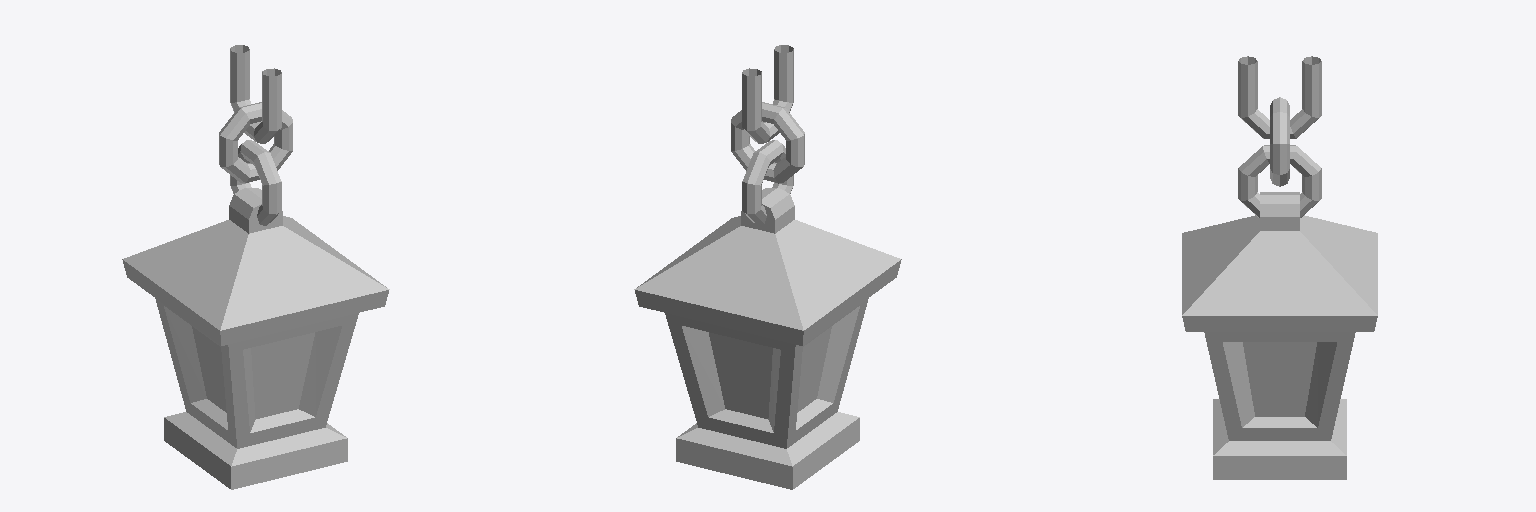
Rendered from lantern_hanging.obj.
3 views of the same model, side by side, from view 1: azimuth 30°, elevation 25°; view 2: azimuth 150°, elevation 25°; view 3: azimuth 270°, elevation 25° (orthographic).
Parts seen in each view (by area): view 1: lantern_hanging_Cube.637; view 2: lantern_hanging_Cube.637; view 3: lantern_hanging_Cube.637.
Boxes of the visible parts, box(x1,y1,x2,y2) form: lantern_hanging_Cube.637: box(122, 45, 389, 489); lantern_hanging_Cube.637: box(634, 45, 901, 489); lantern_hanging_Cube.637: box(1182, 56, 1377, 479).
Size of the model in its own units: 0.64 by 1.41 by 0.64.